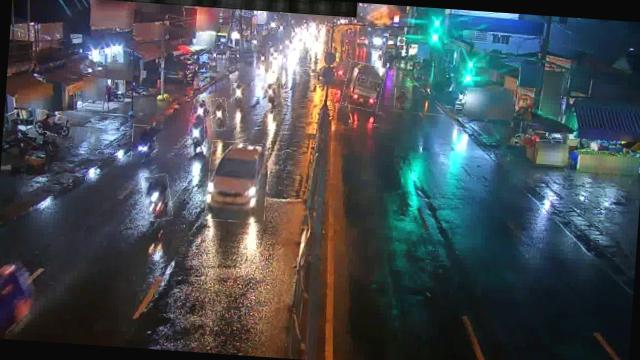Bike: (140, 172, 173, 220), (131, 124, 155, 160), (34, 110, 66, 134), (258, 82, 283, 112), (187, 118, 206, 157), (209, 97, 228, 130), (191, 99, 208, 122), (393, 88, 408, 114), (231, 82, 245, 104)
Car: (205, 140, 270, 223)
Truck: (341, 60, 384, 110)
